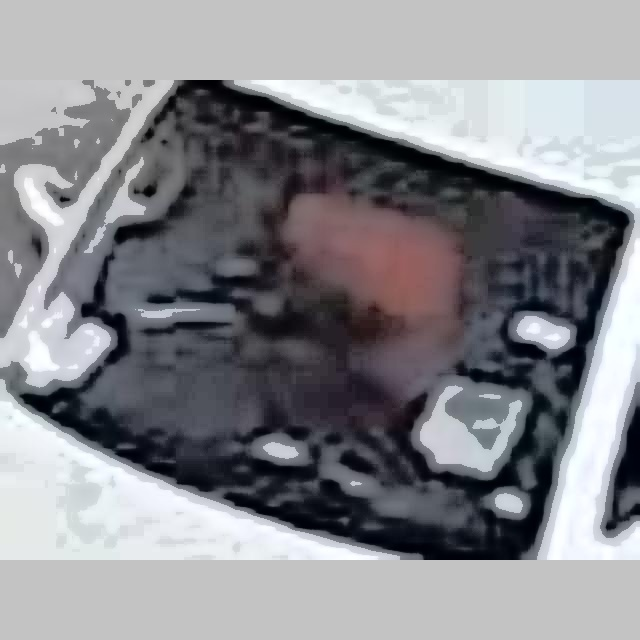tidak-pakai: (218, 138, 487, 364)
